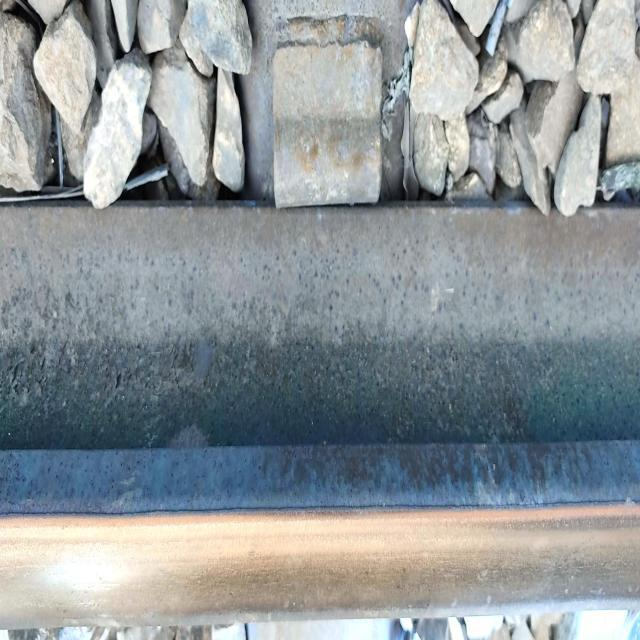Missing Fastener: (246, 6, 400, 242)
